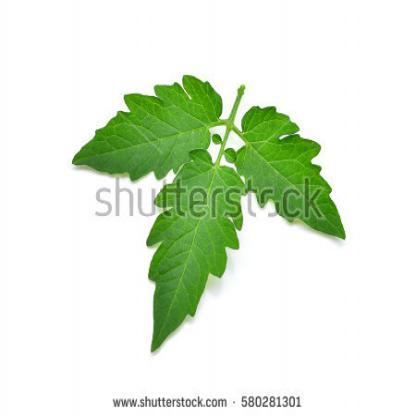Tomato leaf bacterial spot: (140, 136, 256, 366), (234, 67, 367, 257), (66, 56, 232, 198)
